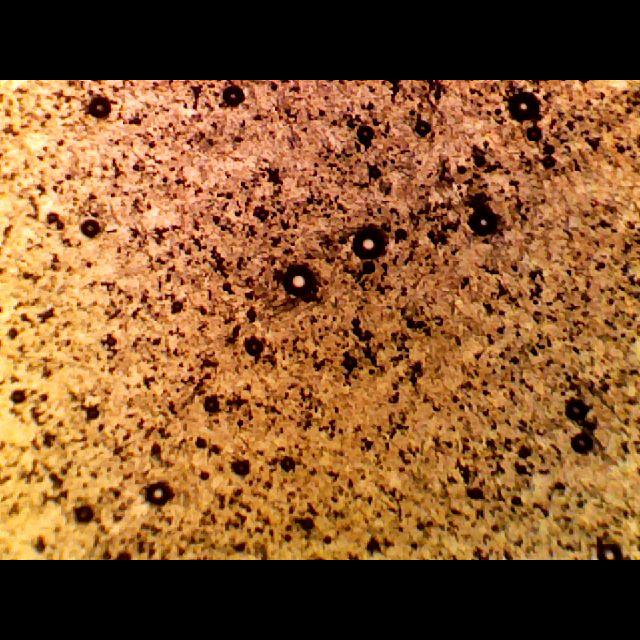microbeads: (282, 260, 321, 304), (350, 220, 390, 260), (503, 86, 543, 124)
